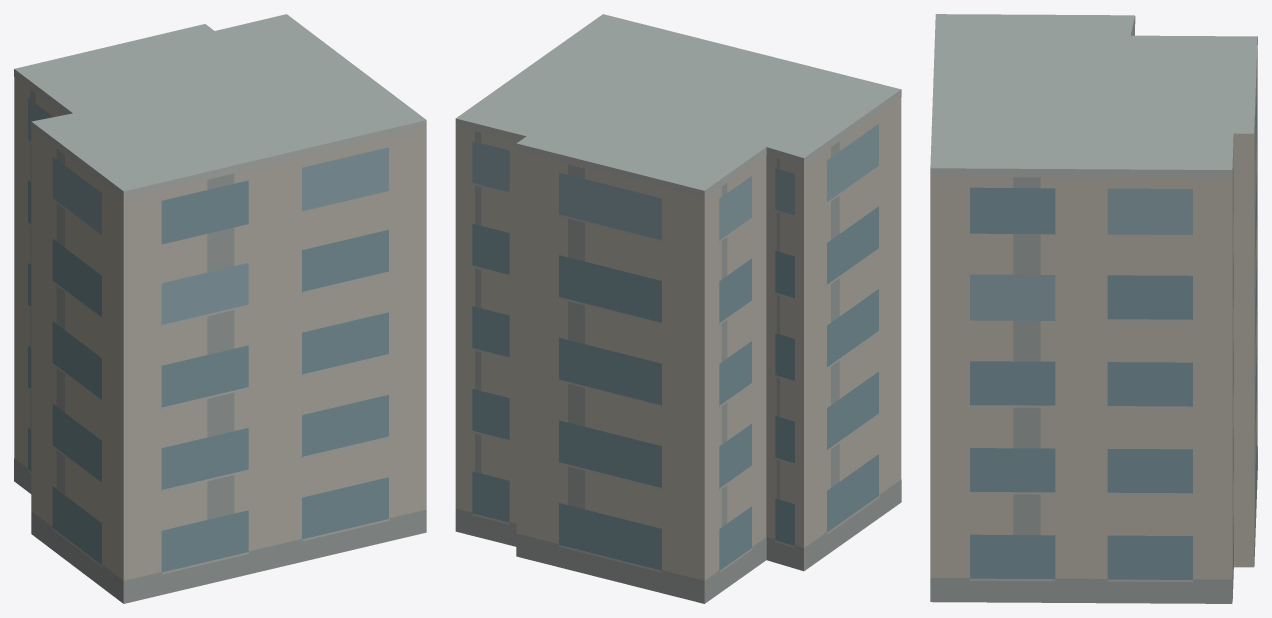
File: survey-upis-32725080.glb
3 views of the same model, side by side, from view 1: azimuth 30°, elevation 25°; view 2: azimuth 150°, elevation 25°; view 3: azimuth 270°, elevation 25° (orthographic). The views are drawn at different scales.
Visible parts, largest first — view 1: survey-upis-32725080.tmp; view 2: survey-upis-32725080.tmp; view 3: survey-upis-32725080.tmp.
Part boxes in pixels (x1,y1,x2,y2): survey-upis-32725080.tmp: [14, 14, 426, 603]; survey-upis-32725080.tmp: [455, 14, 901, 603]; survey-upis-32725080.tmp: [930, 14, 1257, 603].
Bounding box in the file's own units: 9.65 × 12.5 × 8.56.
